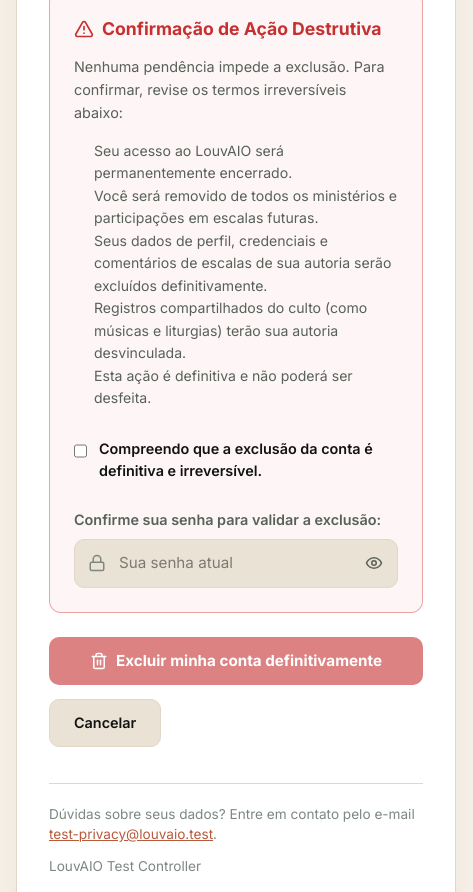
AccountDeletionView › Reauthentication, Deletion Execution & States › handles 401 REAUTHENTICATION_REQUIRED with clear message without retry loop
(page scrolled)
Click the checkbox labelled "Compreendo que a exclusão da conta é definitiva e irreversível" at (80, 451), box [74, 442, 87, 460]
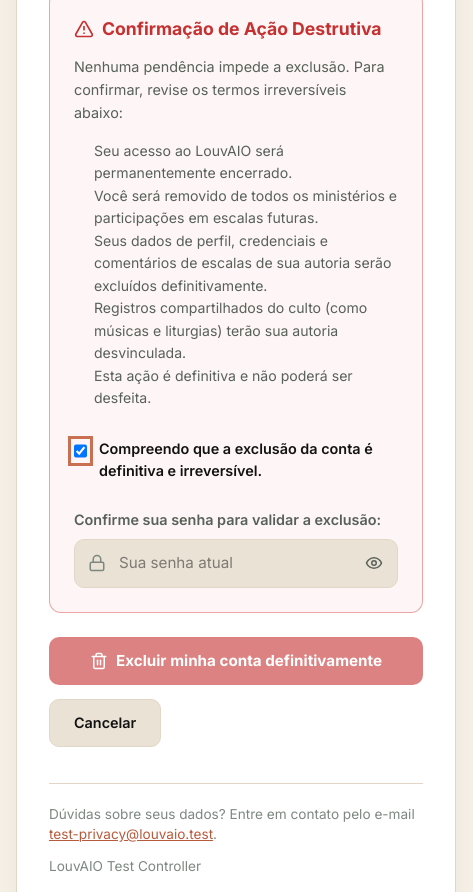
Type "SenhaErrada" into the password field labelled "Confirme sua senha para validar a exclusão:" at (236, 563), box [74, 539, 398, 588]
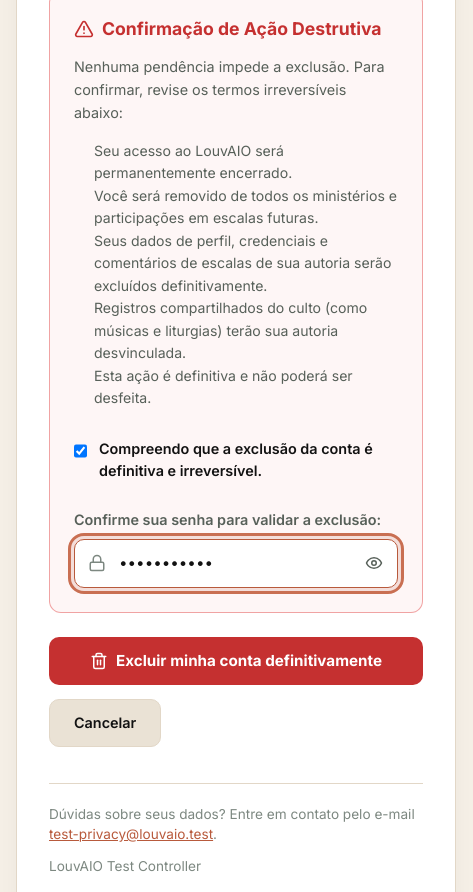
Click the button "Excluir minha conta definitivamente" at (236, 661), box [49, 637, 423, 685]
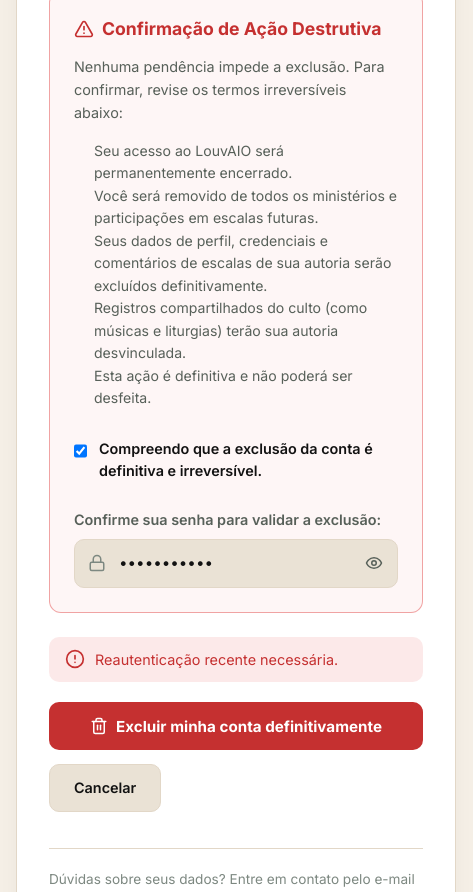
Expected: the text "Reautenticação recente necessária." is shown, [95, 649, 338, 670]
